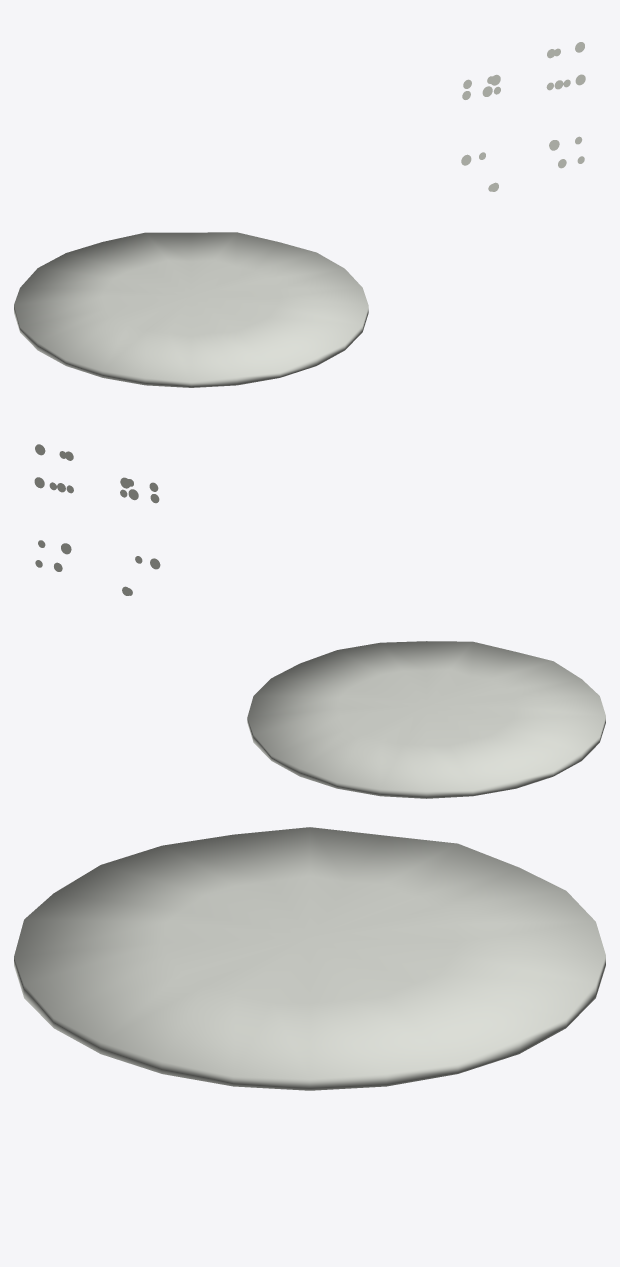
Rendered from VLAB_precipitate.fbx.
3 renders of one model, top to bottom at view 1: azimuth 30°, elevation 25°; view 2: azimuth 150°, elevation 25°; view 3: azimuth 270°, elevation 25°, orthographic. The views are drawn at different scales.
Parts seen in each view (by area): view 1: VLAB_precipitate_SedimentProxy_VIS, VLAB_precipitate_SpeckAtlas_VIS; view 2: VLAB_precipitate_SedimentProxy_VIS, VLAB_precipitate_SpeckAtlas_VIS; view 3: VLAB_precipitate_SedimentProxy_VIS.
Boxes of the visible parts, <box> form: VLAB_precipitate_SedimentProxy_VIS: <box>14,232,368,387</box>; VLAB_precipitate_SpeckAtlas_VIS: <box>461,42,585,191</box>; VLAB_precipitate_SedimentProxy_VIS: <box>247,641,605,798</box>; VLAB_precipitate_SpeckAtlas_VIS: <box>34,444,160,595</box>; VLAB_precipitate_SedimentProxy_VIS: <box>14,827,605,1090</box>.
Size of the model in its own units: 0.103 by 0.035 by 0.056.
